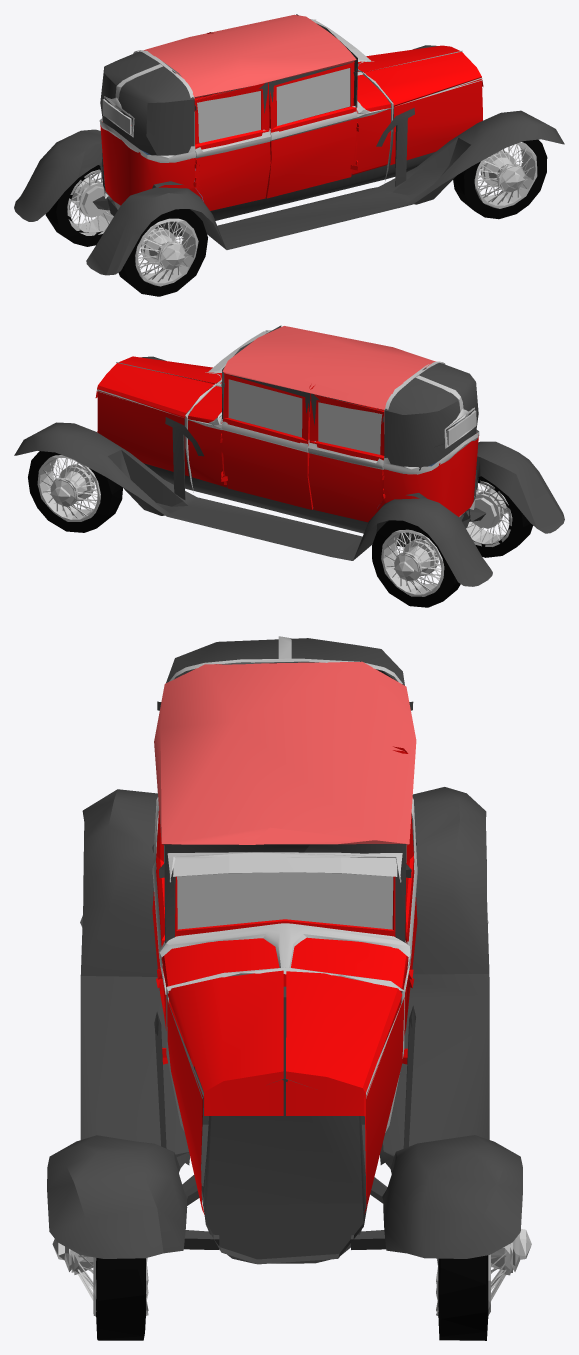
3 renders of one model, top to bottom at view 1: azimuth 30°, elevation 25°; view 2: azimuth 150°, elevation 25°; view 3: azimuth 270°, elevation 25°, orthographic. The views are drawn at different scales.
Visible parts, largest first — view 1: CarPaint_Red, Wheels_Rubber.003, Wheels_Rubber.001, Wheels_Rubber; view 2: CarPaint_Red, Wheels_Rubber.002, Wheels_Rubber, Wheels_Rubber.003; view 3: CarPaint_Red, Wheels_Rubber.002, Wheels_Rubber.001.
Part boxes in pixels (left/top/right/bottom): CarPaint_Red: left=14, top=14, right=564, bottom=275; Wheels_Rubber.003: left=118, top=209, right=207, bottom=296; Wheels_Rubber.001: left=453, top=139, right=547, bottom=219; Wheels_Rubber: left=45, top=165, right=113, bottom=246; CarPaint_Red: left=14, top=325, right=564, bottom=586; Wheels_Rubber.002: left=28, top=451, right=122, bottom=532; Wheels_Rubber: left=372, top=520, right=460, bottom=607; Wheels_Rubber.003: left=466, top=476, right=533, bottom=557; CarPaint_Red: left=47, top=636, right=522, bottom=1264; Wheels_Rubber.002: left=436, top=1229, right=531, bottom=1340; Wheels_Rubber.001: left=52, top=1239, right=148, bottom=1340.
Size of the model in its own units: 404 by 163 by 185.
